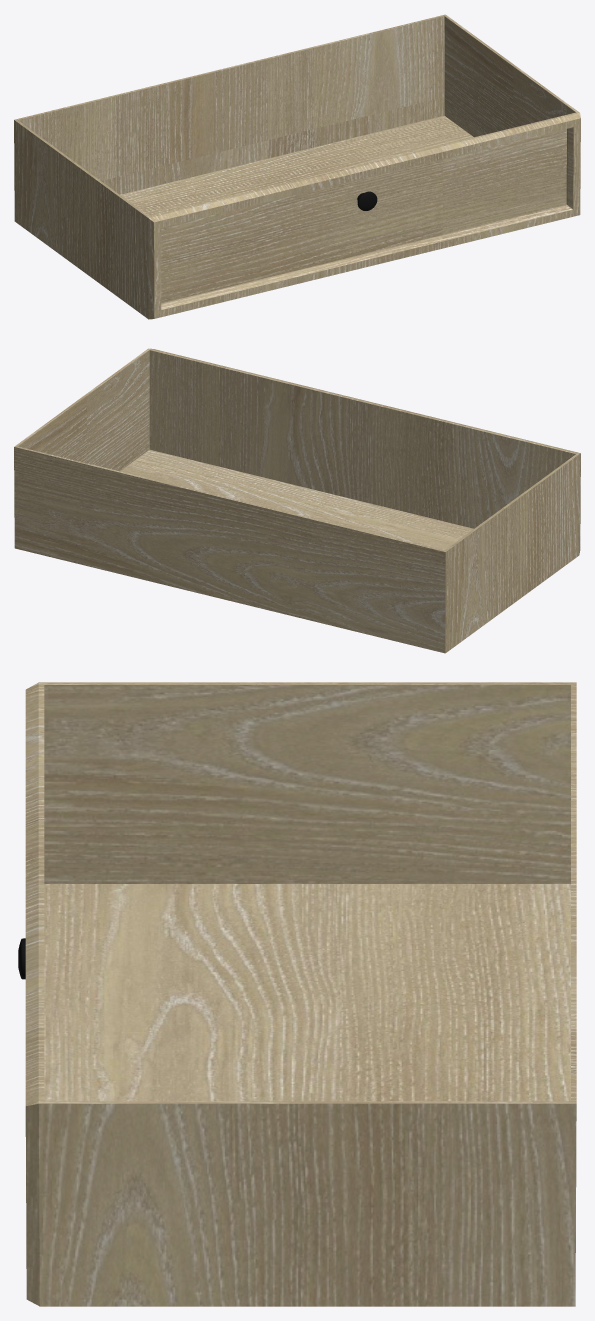
The model's file is библиотека.FBX.
3 views of the same model, one above another, from view 1: azimuth 30°, elevation 25°; view 2: azimuth 150°, elevation 25°; view 3: azimuth 270°, elevation 25° (orthographic). The views are drawn at different scales.
Parts seen in each view (by area): view 1: Object115; view 2: Object115; view 3: Object115.
Boxes of the visible parts, x1,y1,x2,y2 form: Object115: (14,14,580,319); Object115: (14,348,580,653); Object115: (18,682,576,1306).
Size of the model in its own units: 379 by 85.18 by 212.
